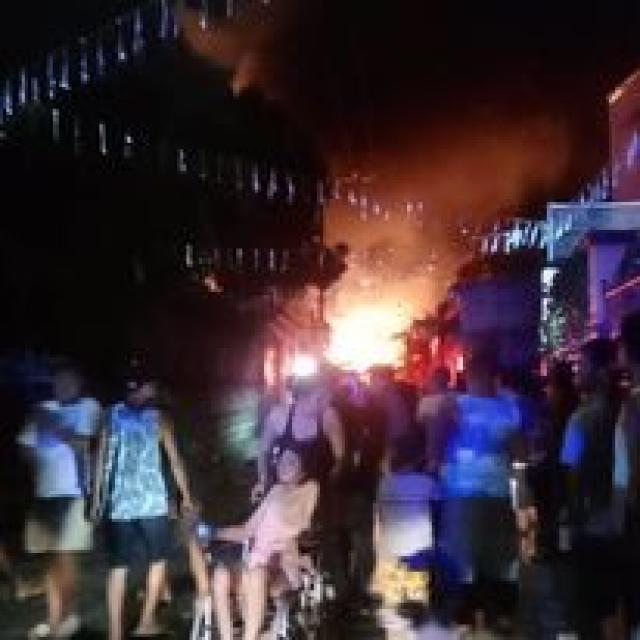Fire: (324, 296, 398, 361)
Smoke: (336, 8, 555, 202), (342, 208, 435, 316)
